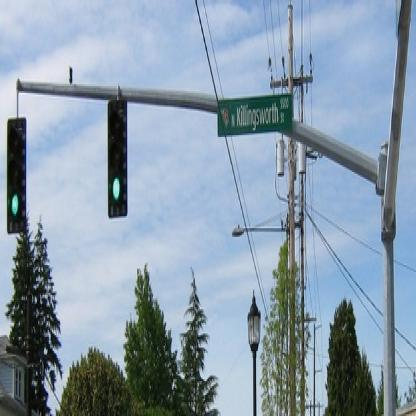Traffic Signal: (106, 94, 128, 221), (9, 120, 25, 226)
